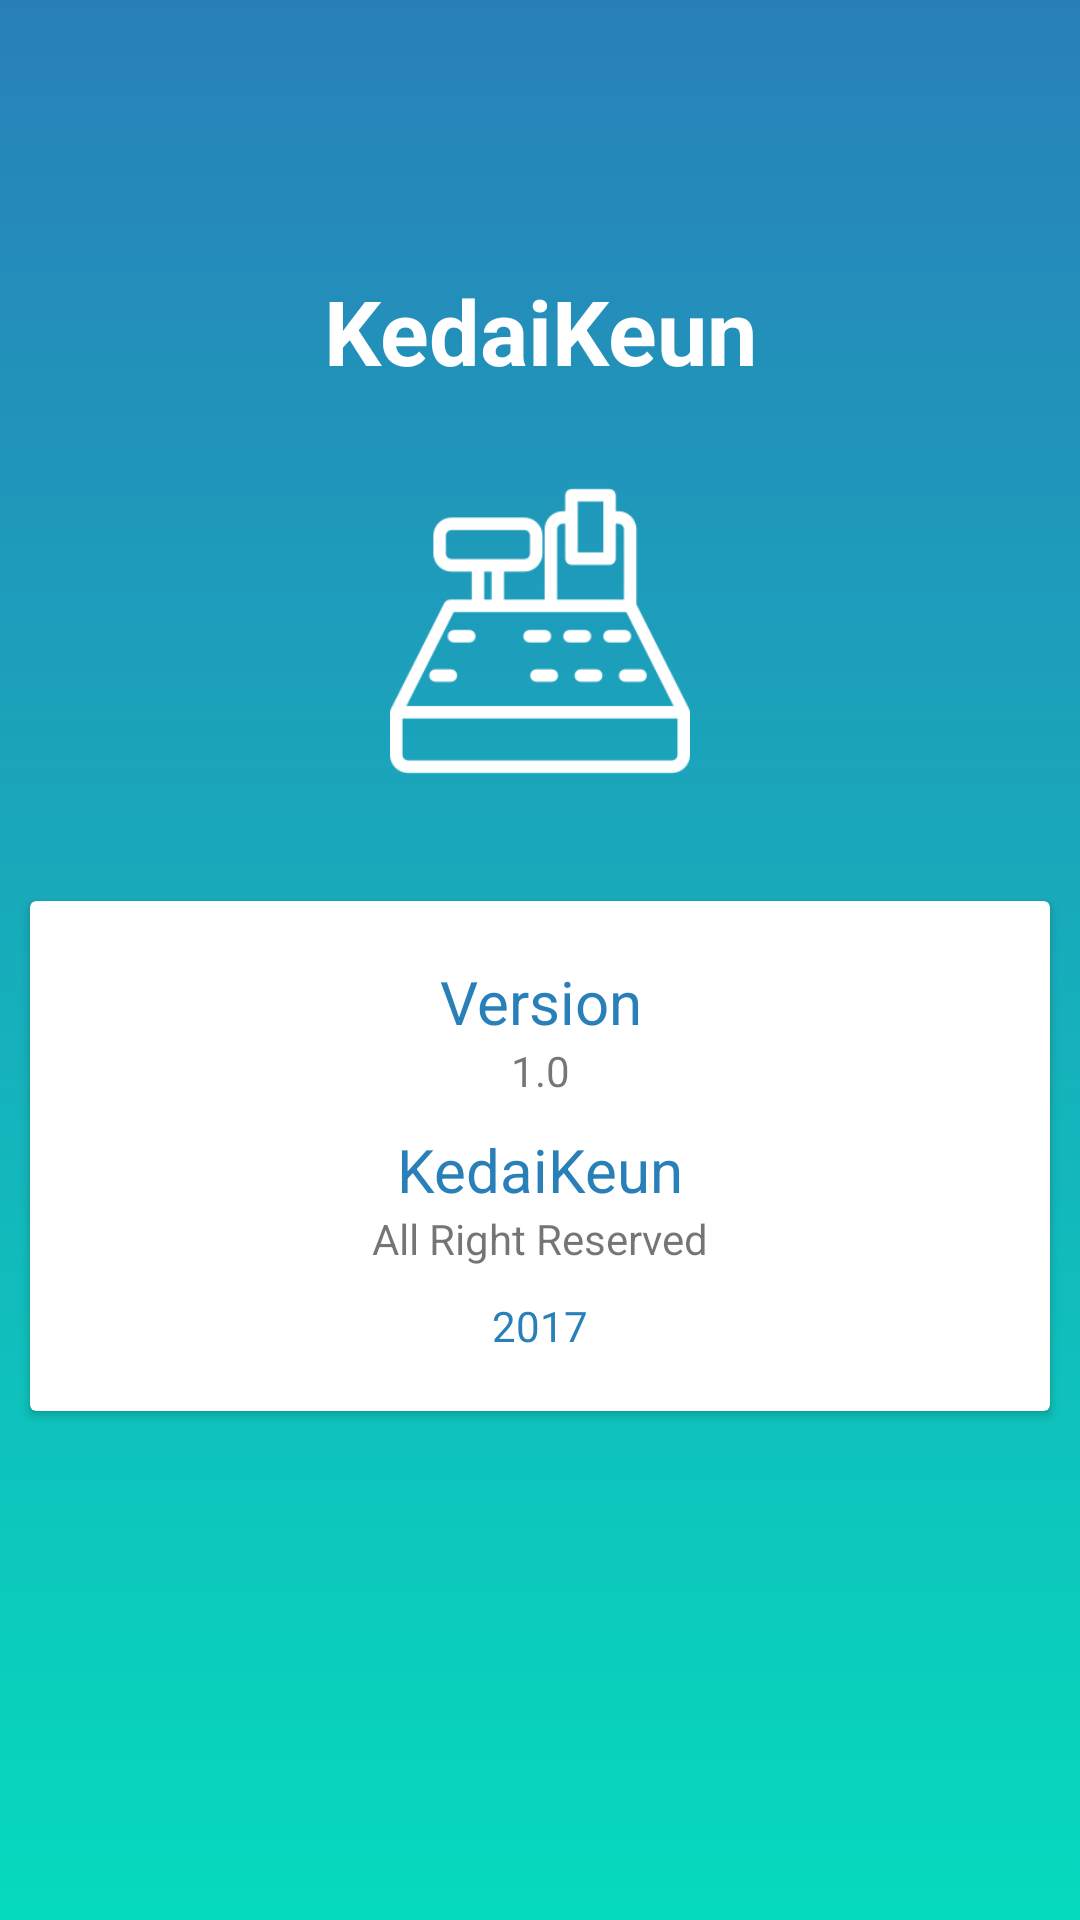

Icons on this 1080 × 1920 Android screen, each with the point to tap as (x=x, y=y):
cashier: (x=540, y=631)
